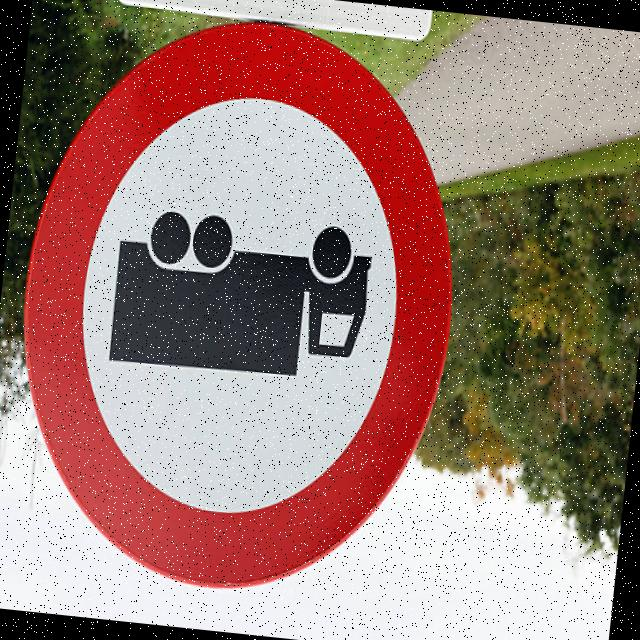do_not_enter: (0, 0, 487, 623)
